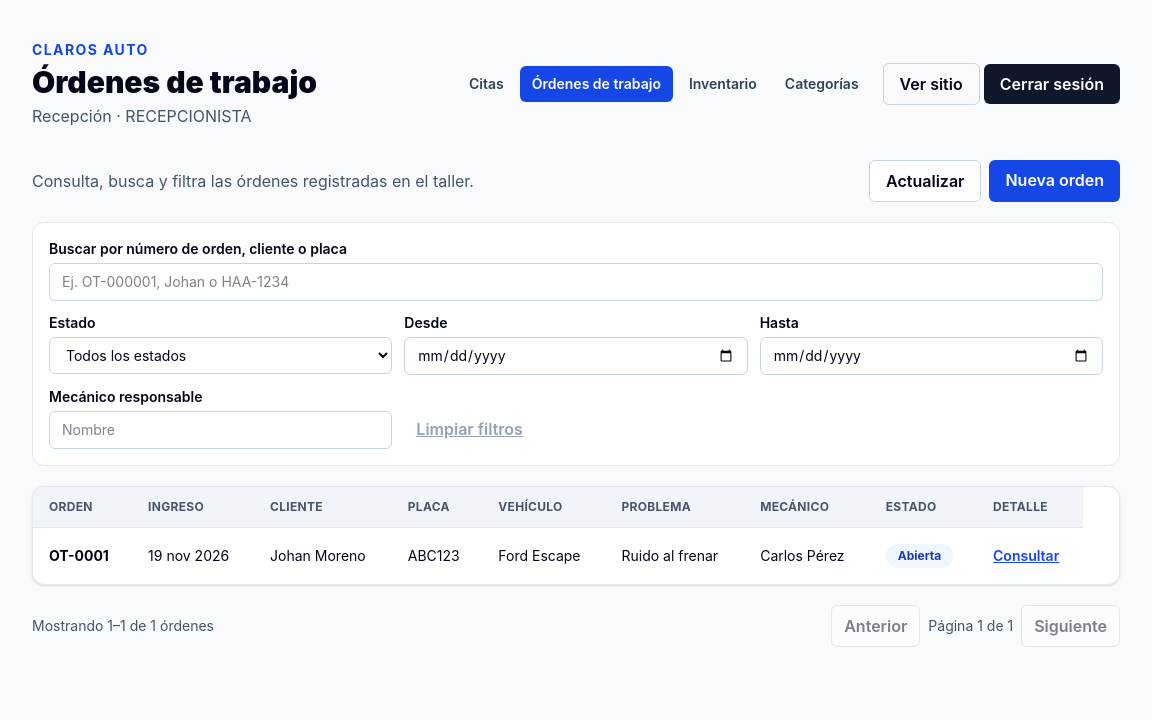
Scenario: página de órdenes de trabajo › envía filtros combinados y cambia de página en el listado
Type "ABC123" into the search field labelled "Buscar por número de orden, cliente o placa" at coordinates (576, 282), box x1=49 y1=263 x2=1103 y2=301
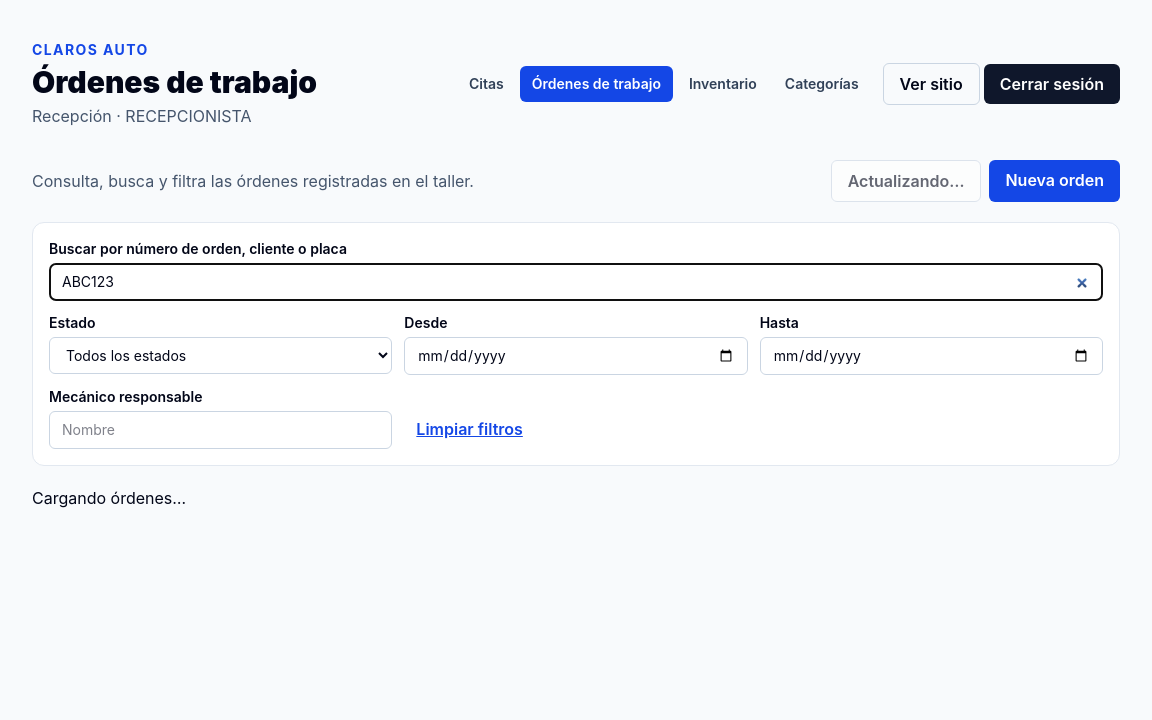
Select "Abierta" in the dropdown labelled "Estado" at coordinates (221, 356), box x1=49 y1=337 x2=392 y2=374
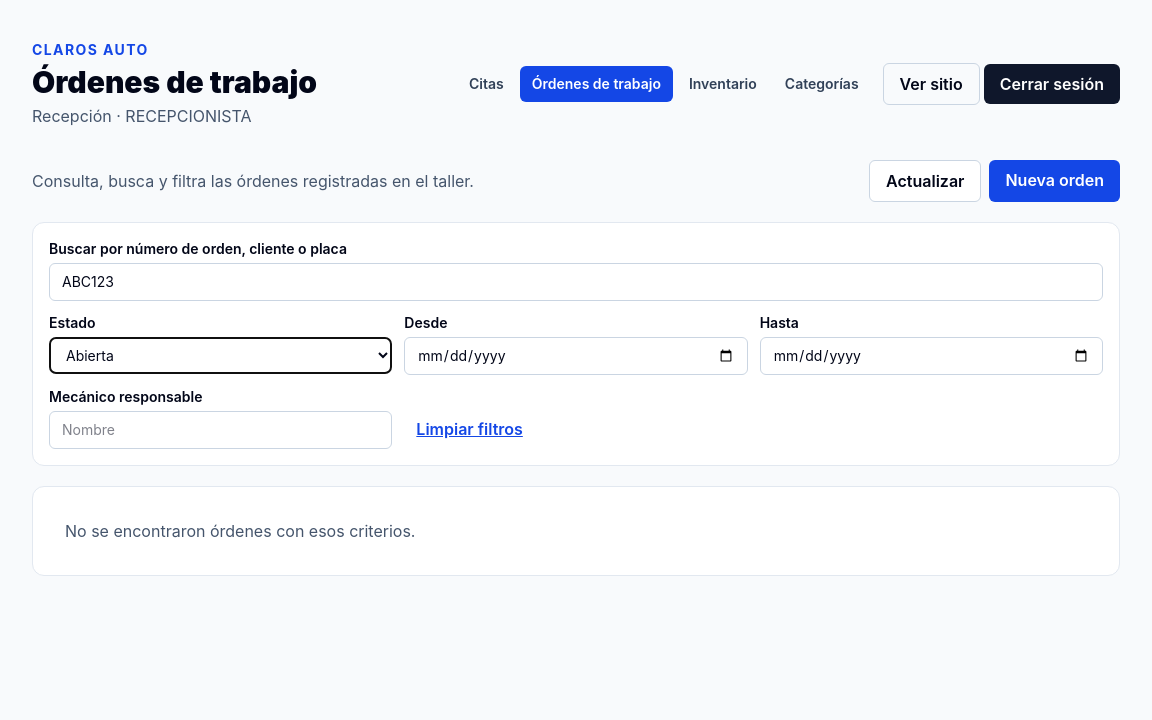
Result: the text "No se encontraron órdenes con esos criterios." is shown at x1=32 y1=486 x2=1120 y2=576
